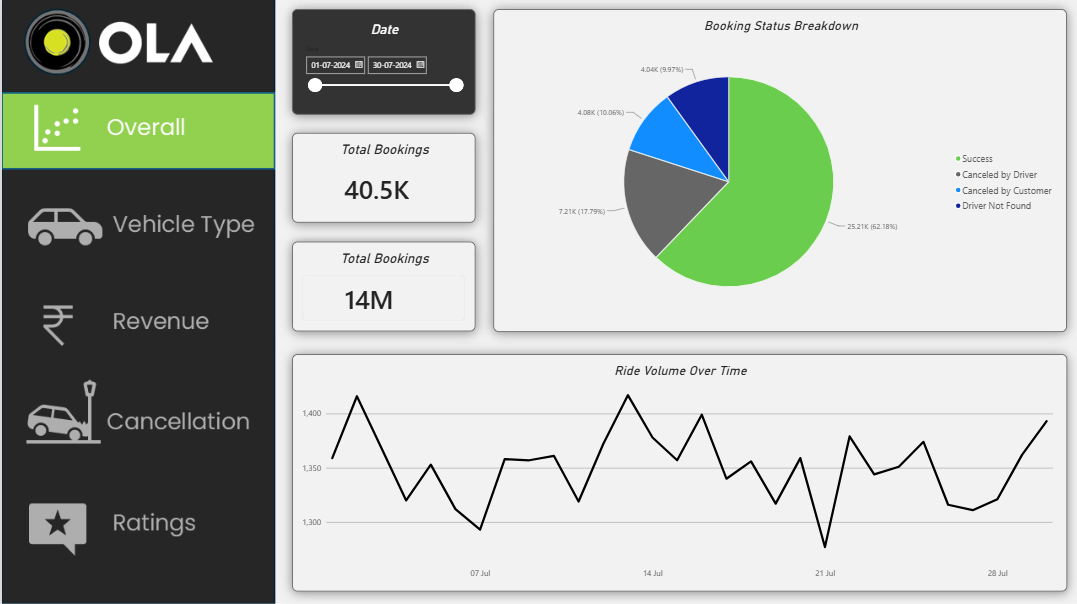

This screenshot's page, from the dashboard's own definition file:
{"tool":"powerbi","page":{"name":"Overall","canvas":[1920,1080],"ordinal":0},"visuals":[{"type":"actionButton","box":[0,332,486,132],"z":0},{"type":"actionButton","box":[0,512,486,132],"z":1000},{"type":"actionButton","box":[0,670,486,132],"z":2000},{"type":"actionButton","box":[0,870,486,132],"z":3000},{"type":"lineChart","title":"Ride Volume Over Time","fields":{"Category":["Bookings40000.Date"],"Y":["CountNonNull(Bookings40000.Booking_ID)"]},"box":[516,630,1378,422],"z":4000},{"type":"pieChart","title":"Booking Status Breakdown","fields":{"Category":["Bookings40000.Booking_Status"],"Y":["CountNonNull(Bookings40000.Booking_Status)"]},"box":[874,18,1020,574],"z":5000},{"type":"slicer","title":"Date","fields":{"Values":["Bookings40000.Date"]},"box":[516,18,326,188],"z":6000},{"type":"cardVisual","title":"Total Bookings","fields":{"Data":["Count(Bookings40000.Booking_ID)"]},"box":[516,238,326,160],"z":7000},{"type":"cardVisual","title":"Total Bookings","fields":{"Data":["Sum(Bookings40000.Booking_Value)"]},"box":[516,432,326,160],"z":8000}]}

Visuals, with their boxes in screenshot pixels (x1, y1, x2, y2), scaled from the page's 1920x1080 canvas onto the 1077x604 screenshot:
actionButton: detection(0, 186, 273, 259)
actionButton: detection(0, 286, 273, 360)
actionButton: detection(0, 375, 273, 449)
actionButton: detection(0, 487, 273, 560)
"Ride Volume Over Time" lineChart: detection(289, 352, 1062, 588)
"Booking Status Breakdown" pieChart: detection(490, 10, 1062, 331)
"Date" slicer: detection(289, 10, 472, 115)
"Total Bookings" cardVisual: detection(289, 133, 472, 223)
"Total Bookings" cardVisual: detection(289, 242, 472, 331)
